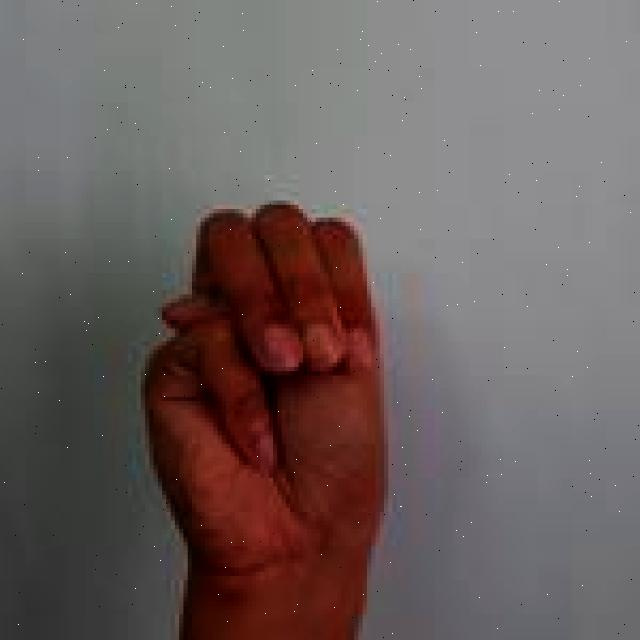M: (133, 196, 403, 640)
